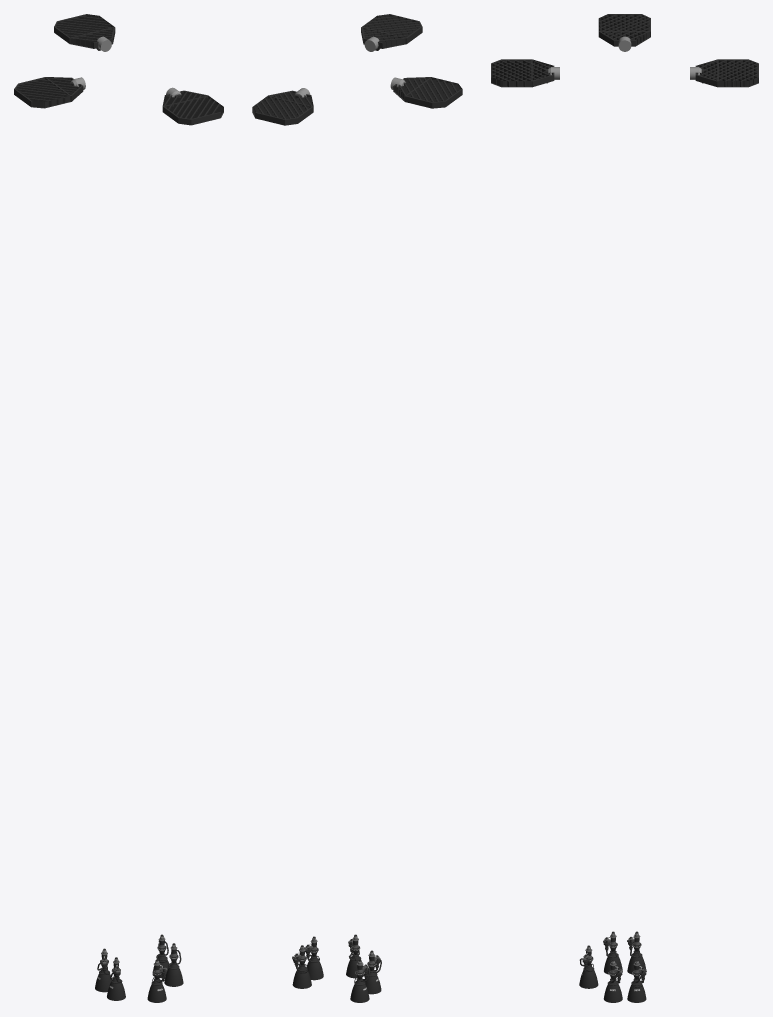
The model's file is ESP-Starship-Part-005.obj.
3 renders of one model, left to right at view 1: azimuth 30°, elevation 25°; view 2: azimuth 150°, elevation 25°; view 3: azimuth 270°, elevation 25°, orthographic.
Parts seen in each view (by area): view 1: Booster__Grid_Fin_001_Cylinder.028, Booster__Grid_Fin_002_Cylinder.026, Booster__Grid_Fin_Cylinder.027, Booster__Raptor_3_008_Cylinder.031, Booster__Raptor_3_010_Cylinder.032, Booster__Raptor_3_006_Cylinder.030; view 2: Booster__Grid_Fin_001_Cylinder.028, Booster__Grid_Fin_Cylinder.027, Booster__Grid_Fin_002_Cylinder.026, Booster__Raptor_3_005_Cylinder.029, Booster__Raptor_3_011_Cylinder.033, Booster__Raptor_3_010_Cylinder.032, Booster__Raptor_3_006_Cylinder.030; view 3: Booster__Grid_Fin_002_Cylinder.026, Booster__Grid_Fin_Cylinder.027, Booster__Grid_Fin_001_Cylinder.028.
Part boxes in pixels (<box>): Booster__Grid_Fin_001_Cylinder.028: <box>14,77,85,108</box>; Booster__Grid_Fin_002_Cylinder.026: <box>54,14,115,51</box>; Booster__Grid_Fin_Cylinder.027: <box>162,87,223,125</box>; Booster__Raptor_3_008_Cylinder.031: <box>147,959,167,1002</box>; Booster__Raptor_3_010_Cylinder.032: <box>164,943,183,986</box>; Booster__Raptor_3_006_Cylinder.030: <box>107,957,125,1000</box>; Booster__Grid_Fin_001_Cylinder.028: <box>390,77,462,108</box>; Booster__Grid_Fin_Cylinder.027: <box>361,14,422,51</box>; Booster__Grid_Fin_002_Cylinder.026: <box>252,88,313,125</box>; Booster__Raptor_3_005_Cylinder.029: <box>350,959,369,1002</box>; Booster__Raptor_3_011_Cylinder.033: <box>292,945,311,988</box>; Booster__Raptor_3_010_Cylinder.032: <box>304,936,323,980</box>; Booster__Raptor_3_006_Cylinder.030: <box>365,950,381,994</box>; Booster__Grid_Fin_002_Cylinder.026: <box>690,59,758,87</box>; Booster__Grid_Fin_Cylinder.027: <box>491,59,559,87</box>; Booster__Grid_Fin_001_Cylinder.028: <box>598,14,650,51</box>.
Bounding box in the file's own units: 11.45 × 65.57 × 17.35.
8 materials, 8 textured.
